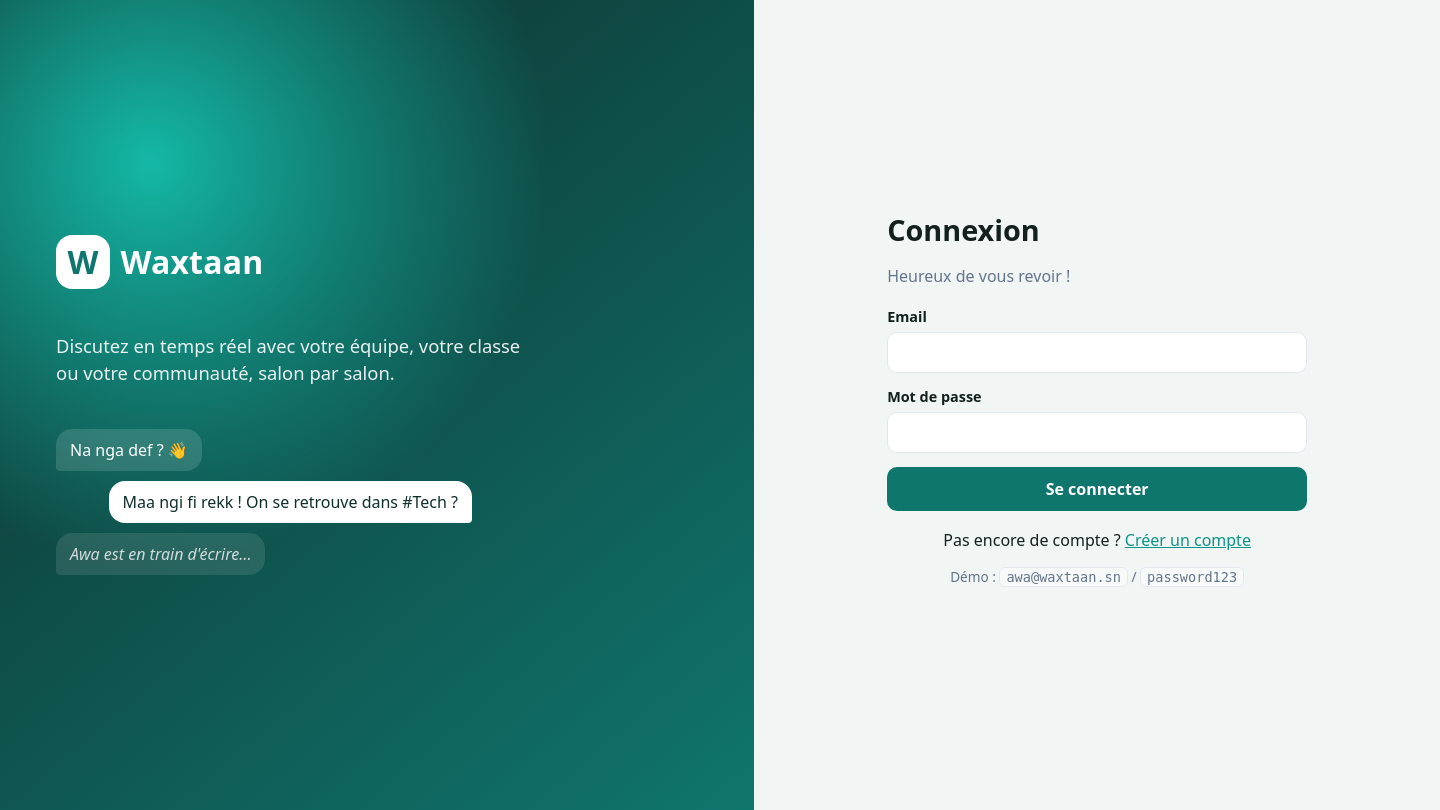
Test: LoginPage › valide les champs vides
Click the button "Se connecter" at (1097, 489), box x1=887 y1=467 x2=1307 y2=511
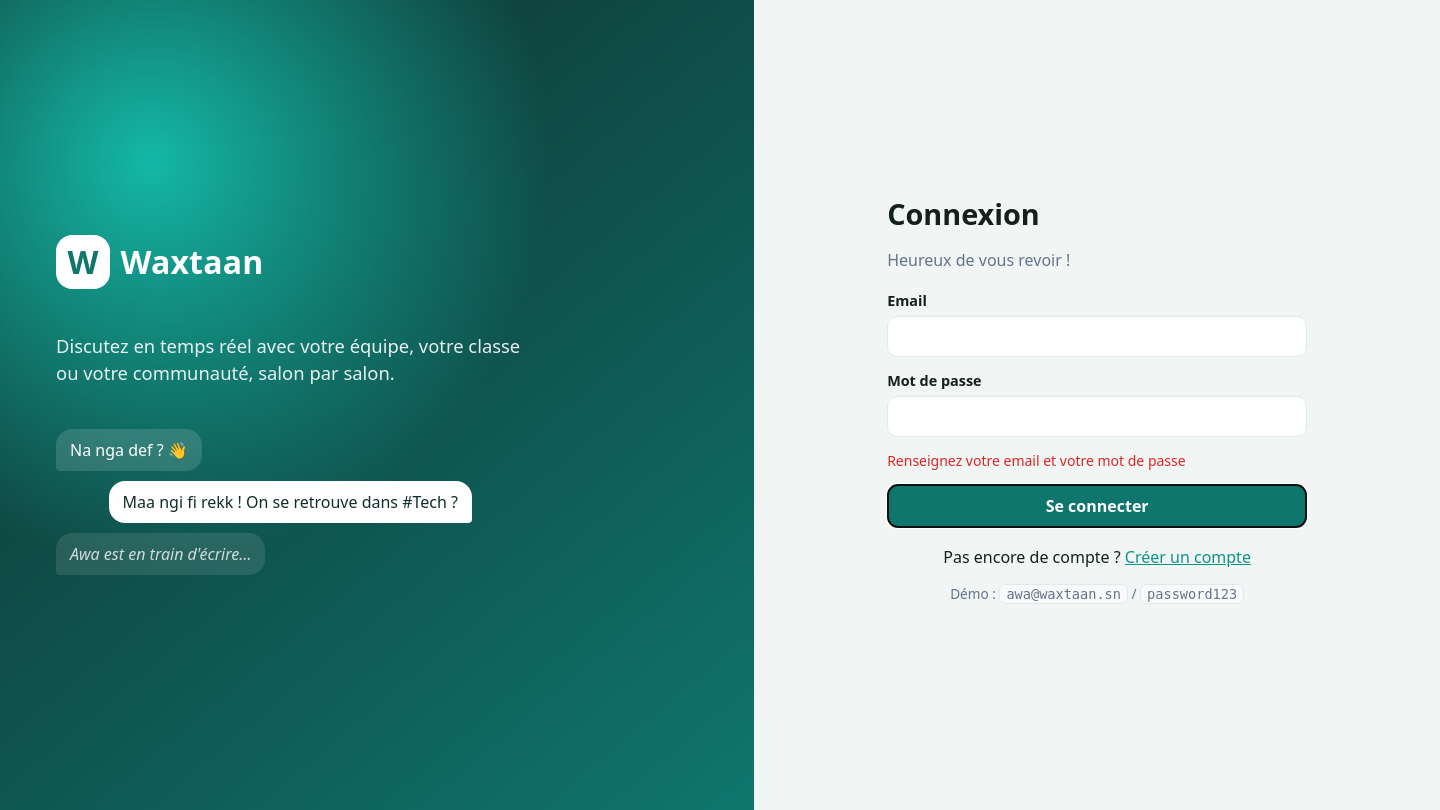
Expected: the message shows "Renseignez votre email", x1=887 y1=451 x2=1186 y2=470
